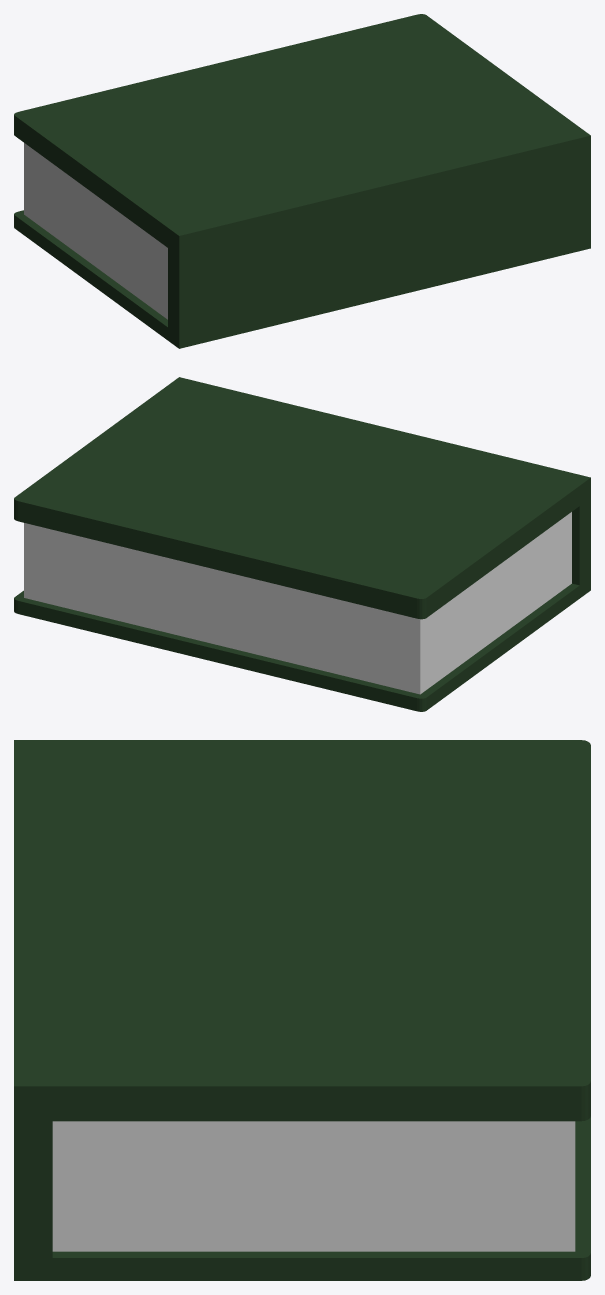
File: BookGreen.fbx
The picture shows the model from 3 angles, top to bottom: view 1: azimuth 30°, elevation 25°; view 2: azimuth 150°, elevation 25°; view 3: azimuth 270°, elevation 25°; orthographic projection. The views are drawn at different scales.
Visible parts, largest first — view 1: book01.001; view 2: book01.001; view 3: book01.001.
Boxes of the visible parts, left/top/right/bottom form: book01.001: left=14, top=14, right=590, bottom=348; book01.001: left=14, top=377, right=590, bottom=711; book01.001: left=14, top=740, right=590, bottom=1280.
Bounding box in the file's own units: 26.41 × 6.92 × 18.6.
